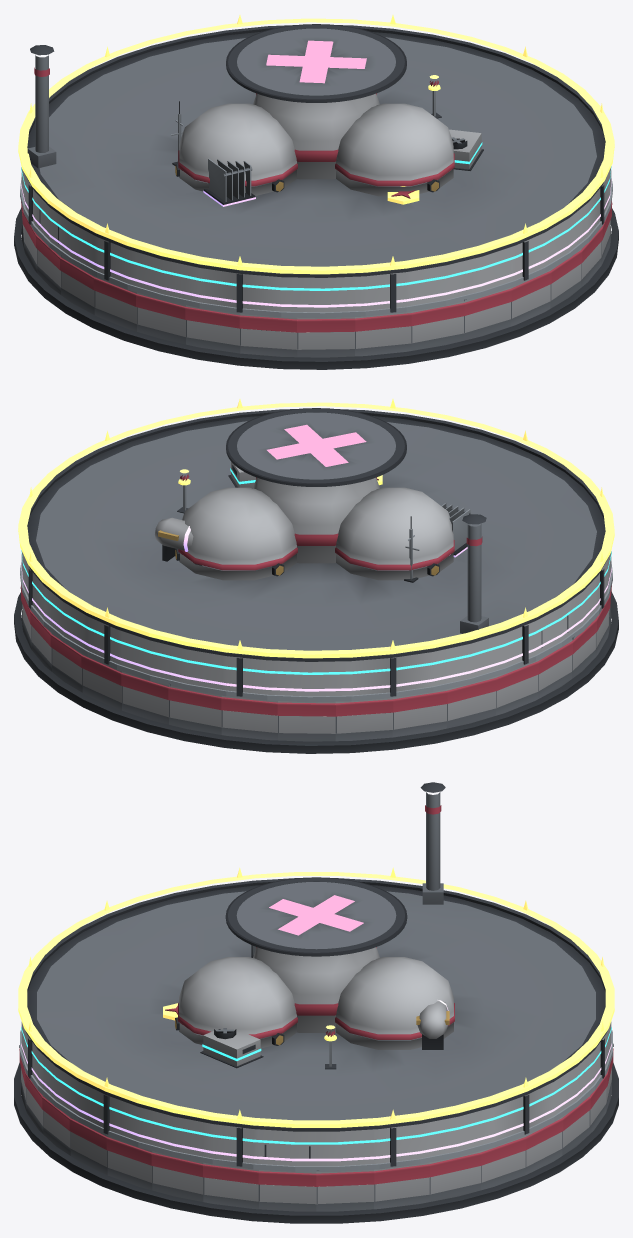
Rendered from bio_lab_l_far.glb.
The picture shows the model from 3 angles, top to bottom: view 1: azimuth 30°, elevation 25°; view 2: azimuth 150°, elevation 25°; view 3: azimuth 270°, elevation 25°; orthographic projection.
Parts seen in each view (by area): view 1: Roof, Base, L5, L2, L4, L3; view 2: Roof, Base, L5, L2, L4, L3; view 3: Roof, Base, L5, L2, L3, L4.
Boxes of the visible parts, left/top/right/bottom form: Roof: left=21, top=24, right=611, bottom=312; Base: left=14, top=201, right=618, bottom=369; L5: left=18, top=15, right=614, bottom=274; L2: left=20, top=101, right=612, bottom=318; L4: left=21, top=158, right=611, bottom=307; L3: left=21, top=129, right=611, bottom=290; Roof: left=21, top=408, right=611, bottom=696; Base: left=14, top=585, right=618, bottom=753; L5: left=18, top=399, right=614, bottom=658; L2: left=20, top=516, right=612, bottom=702; L4: left=21, top=503, right=611, bottom=691; L3: left=21, top=461, right=611, bottom=674; Roof: left=21, top=782, right=611, bottom=1166; Base: left=14, top=1043, right=618, bottom=1223; L5: left=18, top=867, right=614, bottom=1127; L2: left=20, top=1029, right=612, bottom=1171; L3: left=21, top=1027, right=611, bottom=1144; L4: left=21, top=945, right=611, bottom=1161.
Size of the model in its own units: 17.16 by 6.5 by 17.16.
